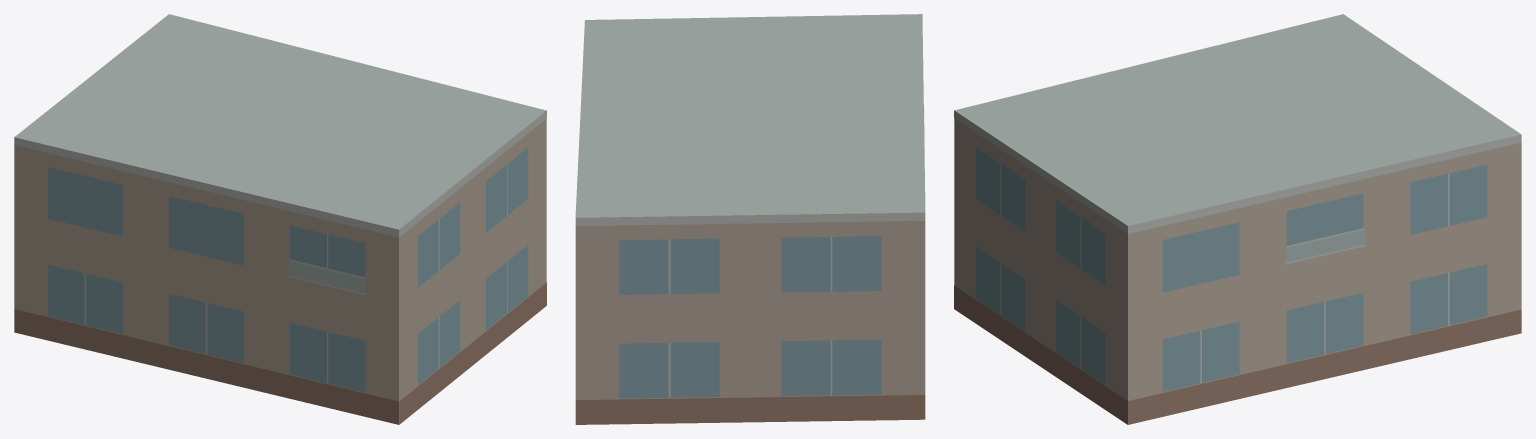
Rendered from survey-upis-32694873.glb.
3 renders of one model, left to right at view 1: azimuth 30°, elevation 25°; view 2: azimuth 150°, elevation 25°; view 3: azimuth 270°, elevation 25°, orthographic. The views are drawn at different scales.
Parts seen in each view (by area): view 1: survey-upis-32694873.tmp; view 2: survey-upis-32694873.tmp; view 3: survey-upis-32694873.tmp.
Boxes of the visible parts, x1=… form: survey-upis-32694873.tmp: x1=14, y1=14, x2=546, y2=424; survey-upis-32694873.tmp: x1=575, y1=14, x2=925, y2=424; survey-upis-32694873.tmp: x1=954, y1=14, x2=1521, y2=424.
Bounding box in the file's own units: 13.97 × 6.1 × 15.79.
